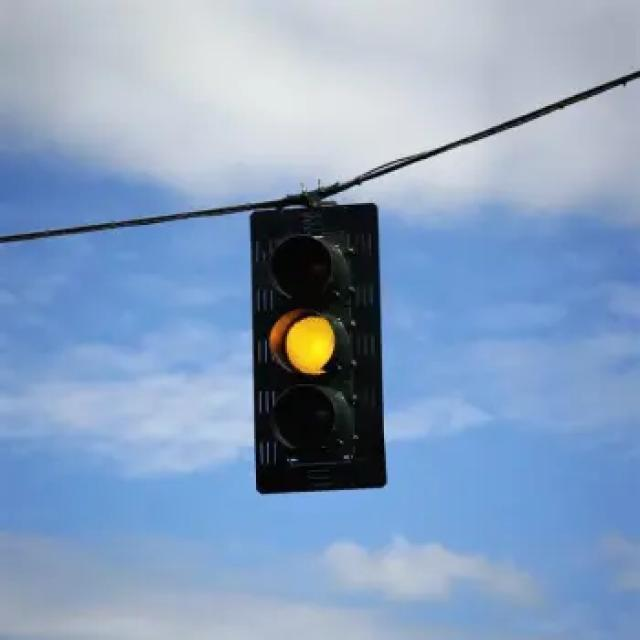yellow_light: (249, 213, 386, 488)
